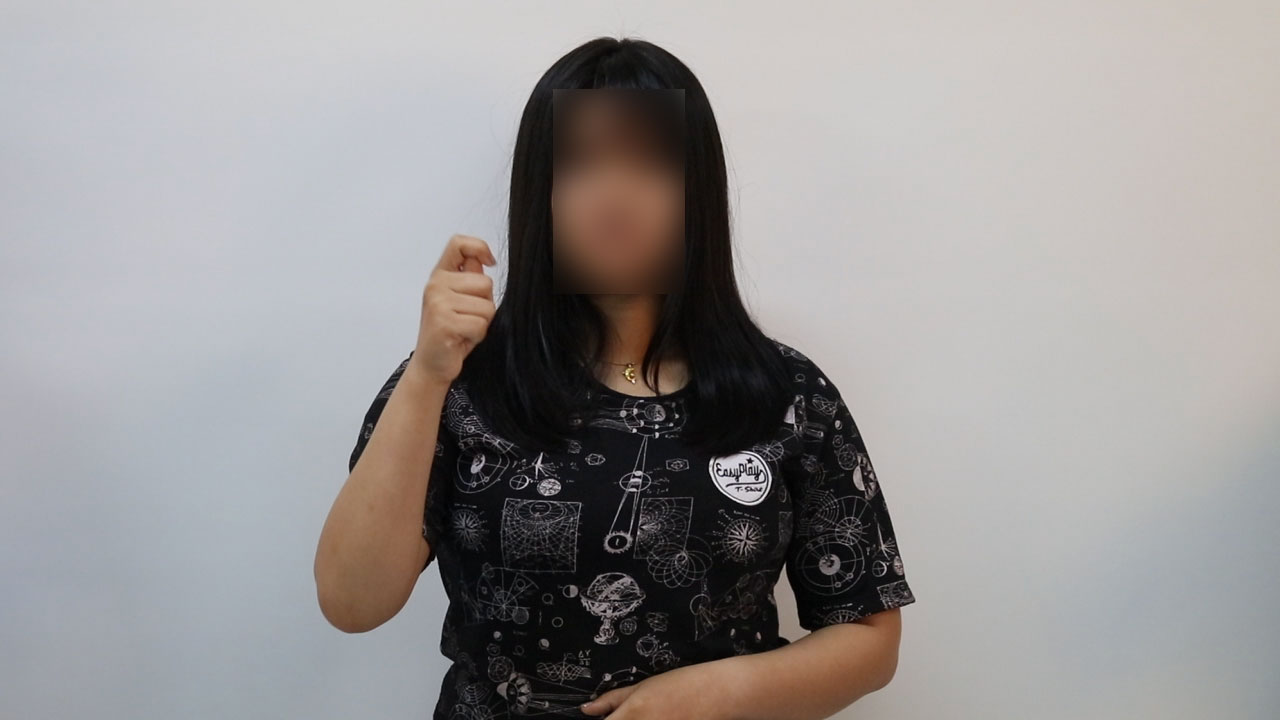or: (408, 226, 507, 398)
